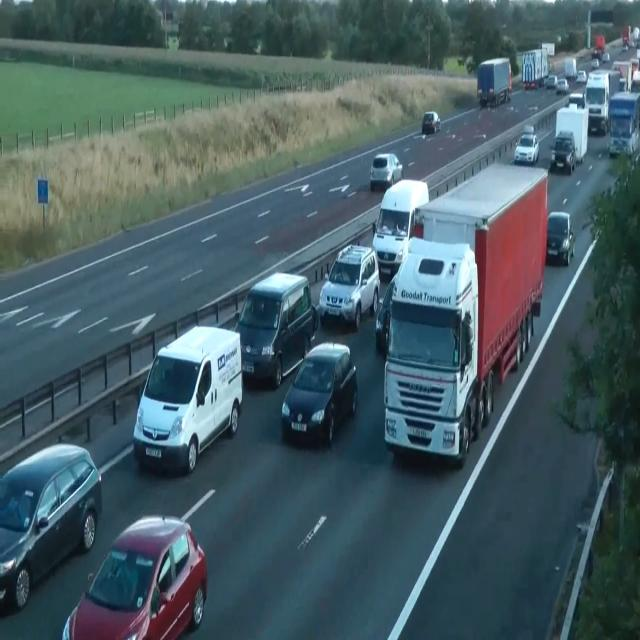bus: (62, 514, 208, 639), (0, 442, 102, 610), (281, 342, 357, 446), (374, 272, 398, 354), (546, 211, 575, 265), (370, 153, 402, 191), (550, 130, 576, 174), (514, 126, 539, 164), (422, 111, 441, 133), (568, 92, 584, 109), (556, 78, 568, 94), (545, 75, 557, 89), (575, 70, 587, 83), (592, 46, 603, 60), (522, 80, 536, 90), (629, 79, 639, 93), (602, 52, 610, 62), (590, 58, 598, 68), (622, 41, 628, 51)
car: (383, 235, 481, 468)
jeep: (132, 324, 243, 474), (233, 270, 318, 387), (371, 178, 429, 278), (318, 242, 380, 331)
minibus: (383, 162, 549, 468), (584, 68, 620, 134), (608, 91, 640, 158), (554, 102, 588, 164), (476, 57, 512, 107), (522, 48, 548, 89), (612, 58, 640, 92), (622, 24, 640, 49), (593, 34, 605, 60), (565, 58, 577, 80), (538, 42, 554, 56)
